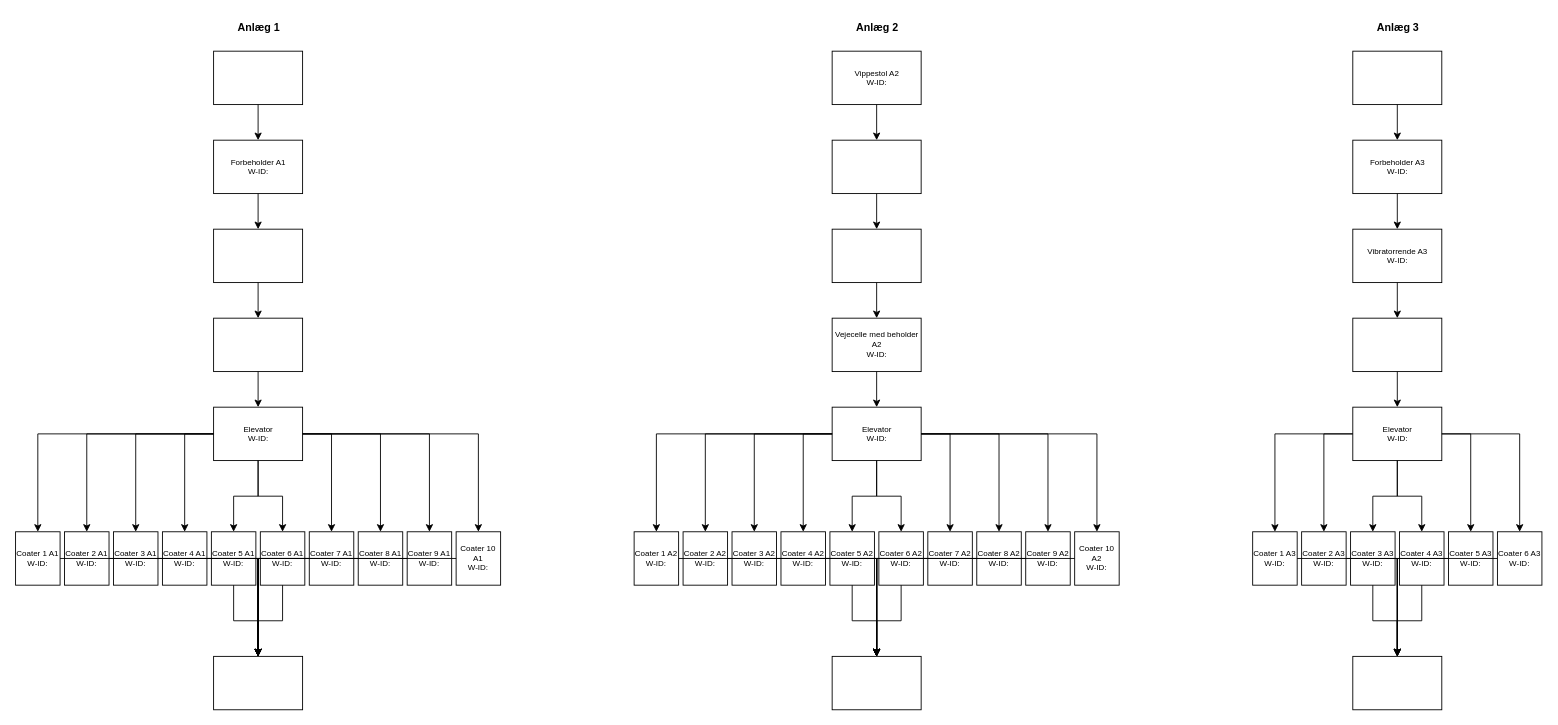
Image size: 1558x725. Some labels were removed from this diagram. The shapes that lost their labels are listed below. From the top down, each one's box as (x1, y1, x2, y2) in pixels, then its label:
(213, 50, 303, 105): Vippestol A1 W-ID:
(1352, 50, 1442, 105): Vippestol A3 W-ID:
(831, 139, 921, 194): Forbeholder A2 W-ID:
(213, 228, 303, 283): Vibratorrende A1 W-ID:
(831, 228, 921, 283): Vibratorrende A2 W-ID:
(213, 317, 303, 372): Vejecelle med beholder A1 W-ID:
(1352, 317, 1442, 372): Vejecelle med beholder A3 W-ID:
(213, 655, 303, 710): Færdigvare A1 W-ID:
(831, 655, 921, 710): Færdigvare A2 W-ID:
(1352, 655, 1442, 710): Færdigvare A3 W-ID:
